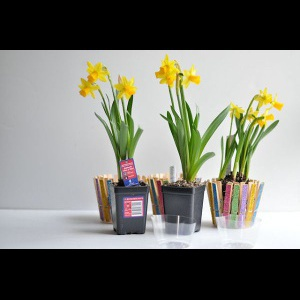flowerpot: (208, 173, 265, 232), (100, 174, 149, 236), (159, 174, 207, 235)
